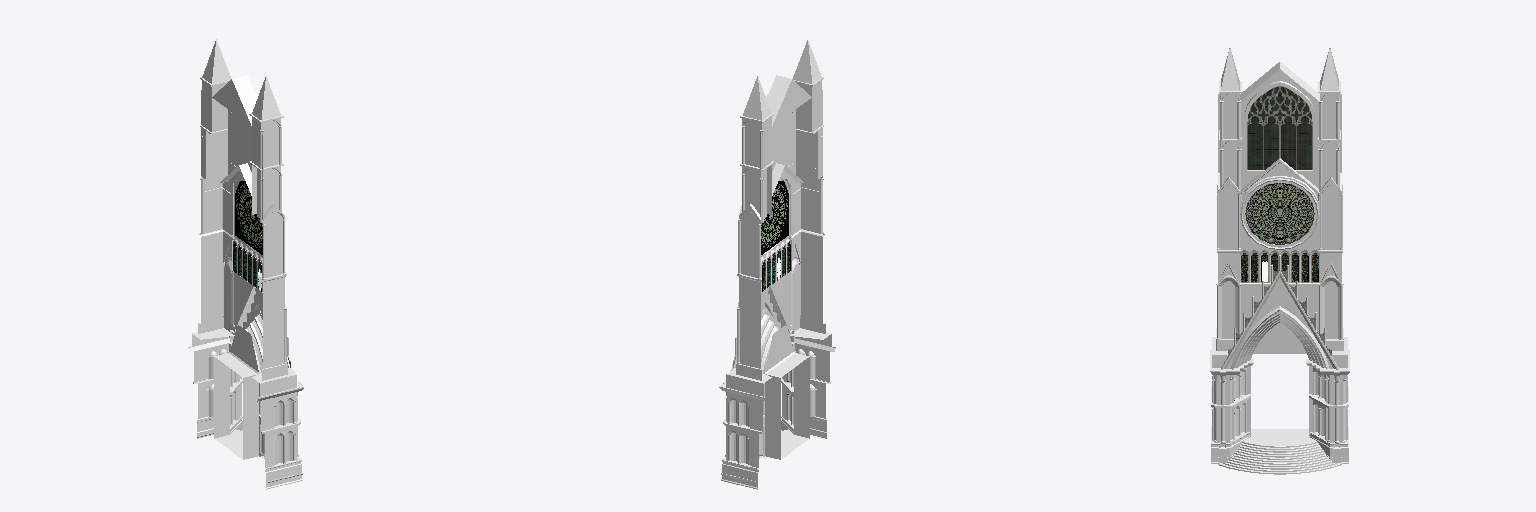
3 views of the same model, side by side, from view 1: azimuth 30°, elevation 25°; view 2: azimuth 150°, elevation 25°; view 3: azimuth 270°, elevation 25° (orthographic).
Visible parts, largest first — view 1: mesh0, mesh4, mesh12, mesh1, mesh8, mesh13, mesh14, mesh6, mesh9, mesh5; view 2: mesh0, mesh4, mesh12, mesh1, mesh8, mesh14, mesh13, mesh6, mesh9, mesh5; view 3: mesh0, mesh4, mesh12, mesh17, mesh13, mesh2, mesh8, mesh14, mesh9, mesh6, mesh10, mesh11 (+4 smaller).
Boxes of the visible parts, x1=… form: mesh0: x1=192, y1=75, x2=301, y2=481; mesh4: x1=203, y1=120, x2=282, y2=277; mesh12: x1=190, y1=77, x2=303, y2=489; mesh1: x1=202, y1=39, x2=280, y2=120; mesh8: x1=235, y1=181, x2=262, y2=254; mesh13: x1=201, y1=120, x2=288, y2=373; mesh14: x1=188, y1=125, x2=303, y2=488; mesh6: x1=230, y1=181, x2=258, y2=371; mesh9: x1=233, y1=241, x2=261, y2=291; mesh5: x1=197, y1=309, x2=301, y2=487; mesh0: x1=722, y1=75, x2=831, y2=481; mesh4: x1=741, y1=120, x2=820, y2=277; mesh12: x1=720, y1=77, x2=833, y2=489; mesh1: x1=743, y1=40, x2=821, y2=120; mesh8: x1=761, y1=181, x2=788, y2=254; mesh14: x1=719, y1=87, x2=835, y2=488; mesh13: x1=735, y1=120, x2=822, y2=373; mesh6: x1=765, y1=181, x2=793, y2=371; mesh9: x1=762, y1=241, x2=790, y2=291; mesh5: x1=722, y1=309, x2=826, y2=487; mesh0: x1=1211, y1=62, x2=1348, y2=457; mesh4: x1=1219, y1=93, x2=1340, y2=249; mesh12: x1=1210, y1=81, x2=1349, y2=464; mesh17: x1=1248, y1=87, x2=1311, y2=169; mesh13: x1=1219, y1=93, x2=1340, y2=367; mesh2: x1=1219, y1=441, x2=1340, y2=474; mesh8: x1=1246, y1=183, x2=1313, y2=243; mesh14: x1=1210, y1=93, x2=1349, y2=463; mesh9: x1=1241, y1=252, x2=1318, y2=282; mesh6: x1=1242, y1=163, x2=1317, y2=353; mesh10: x1=1245, y1=183, x2=1314, y2=244; mesh11: x1=1247, y1=86, x2=1312, y2=169.
Size of the model in its own units: 10.36 by 61.17 by 19.09.
19 materials, 7 textured.